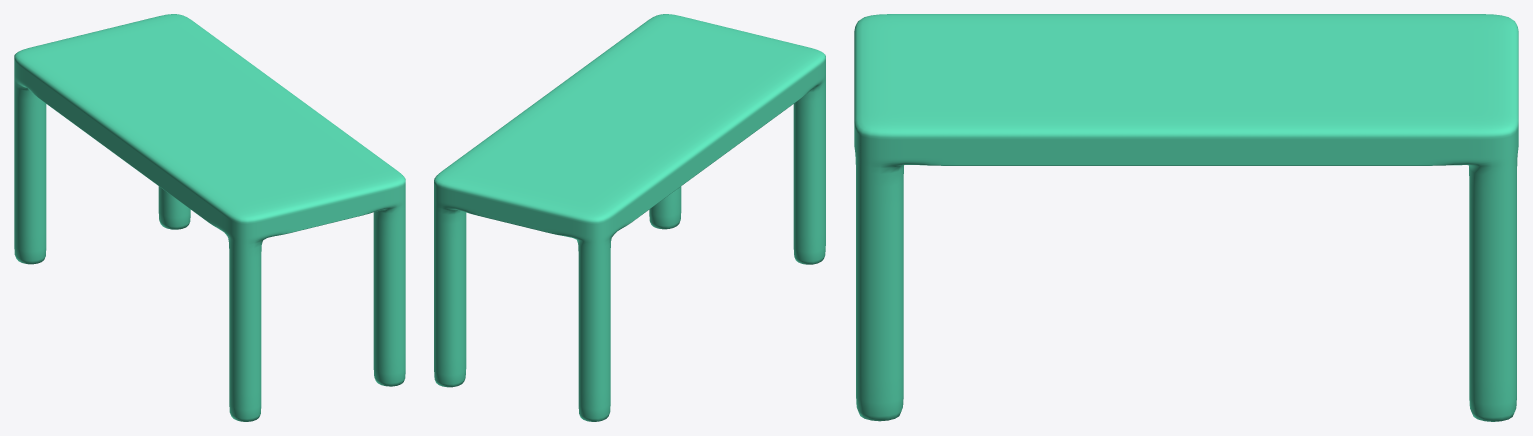
The model's file is Hospital Bed.fbx.
3 renders of one model, left to right at view 1: azimuth 30°, elevation 25°; view 2: azimuth 150°, elevation 25°; view 3: azimuth 270°, elevation 25°, orthographic. The views are drawn at different scales.
Parts seen in each view (by area): view 1: pCube1; view 2: pCube1; view 3: pCube1.
Boxes of the visible parts, x1,y1,x2,y2 form: pCube1: [14, 14, 405, 421]; pCube1: [434, 14, 825, 421]; pCube1: [854, 14, 1518, 421].
Size of the model in its own units: 8.44 by 9.66 by 19.65.
